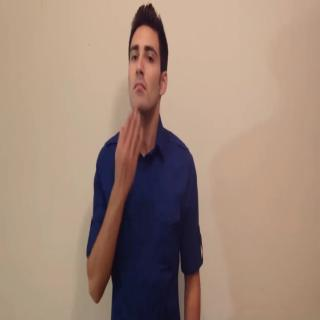ThankYou: (87, 1, 203, 320)
